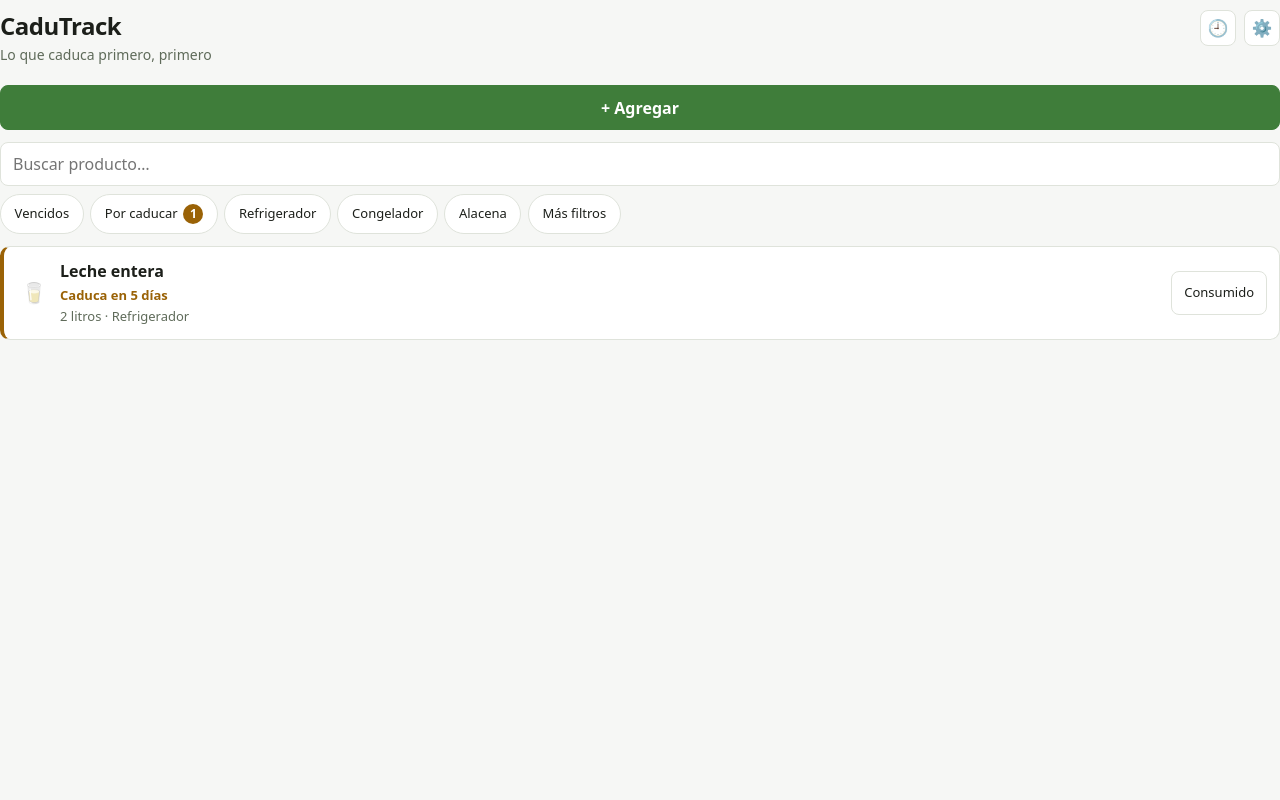
Scenario: deleting a product › asks before deleting and does nothing on cancel
Click the button "Leche entera Caduca en 5 días 2 litros · Refrigerador": (112, 271) [60,255,1167,331]
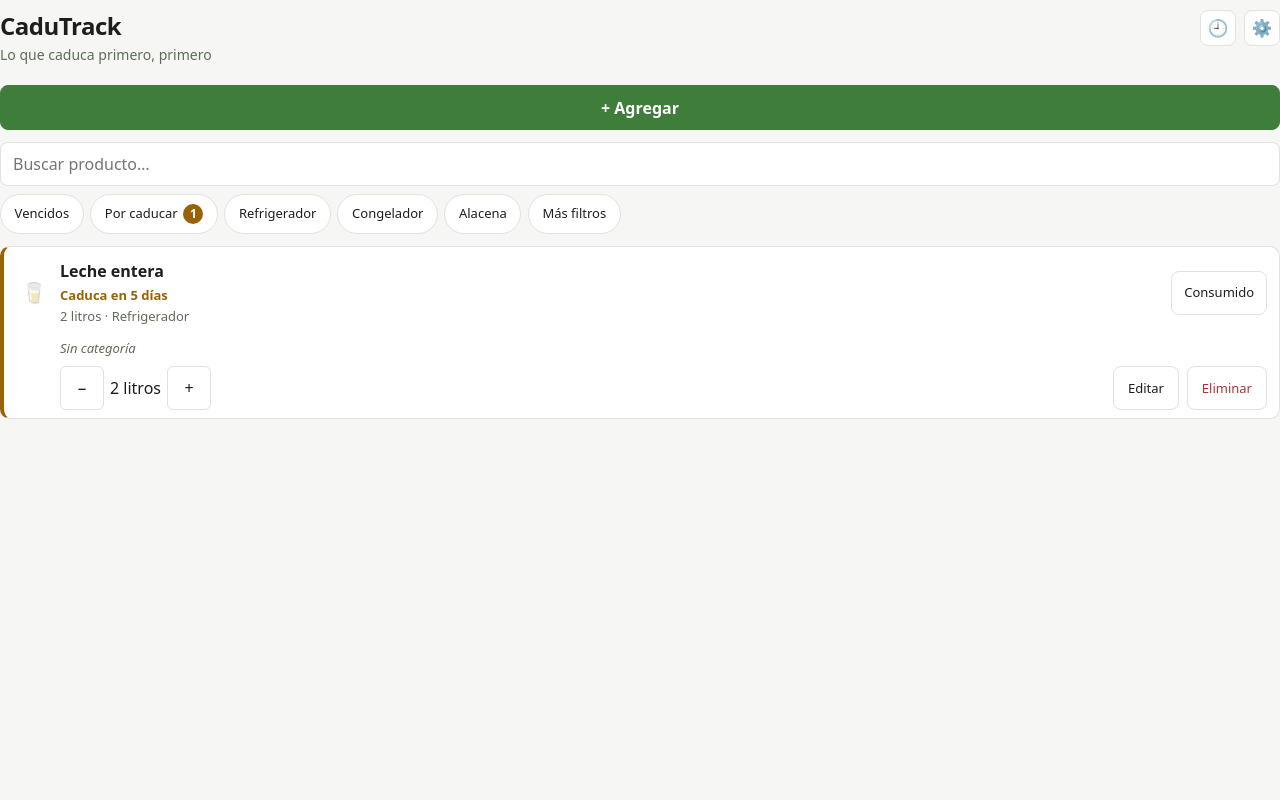
Click the button with aria-label "Eliminar Leche entera": (1227, 388) [1187,366,1267,410]
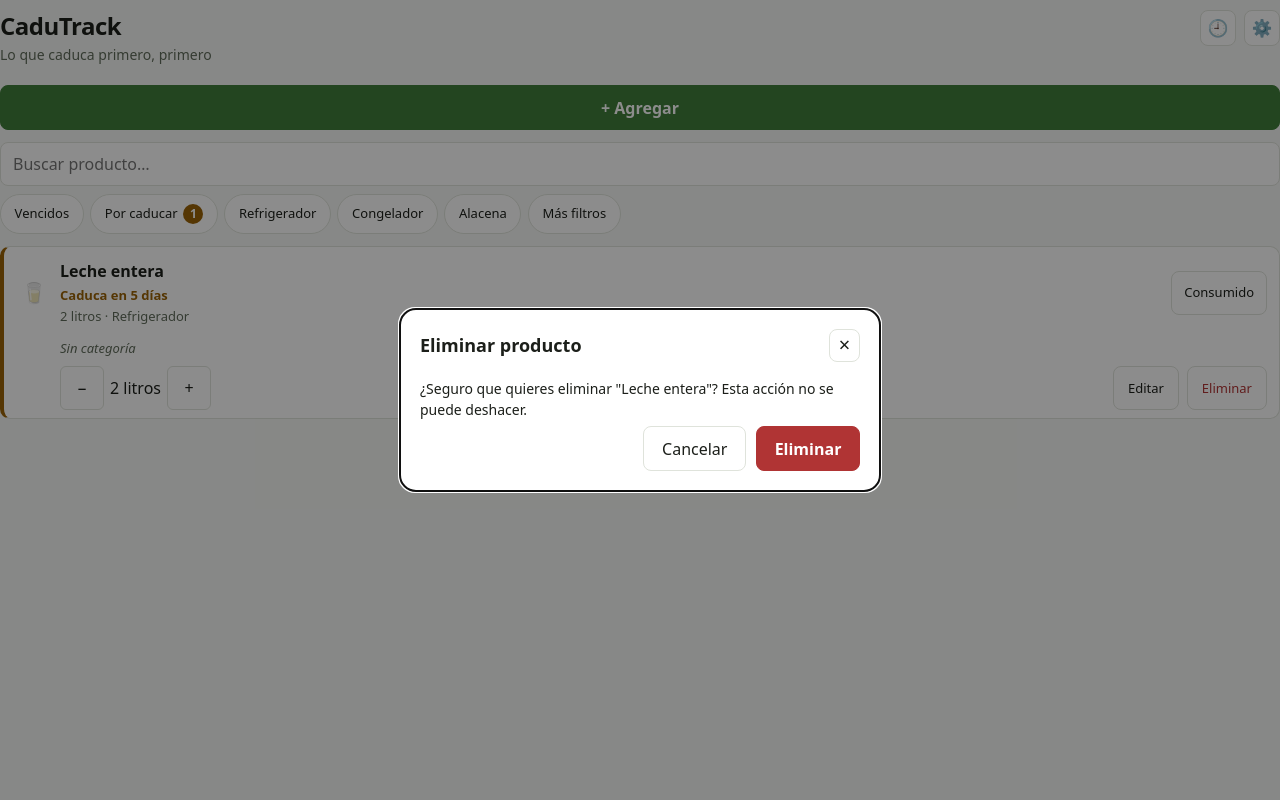
Check: the text "¿Seguro que quieres eliminar \"Leche entera\"?" is shown, box [420,379,834,419]
Click the button "Cancelar": (695, 449) [644,426,746,471]
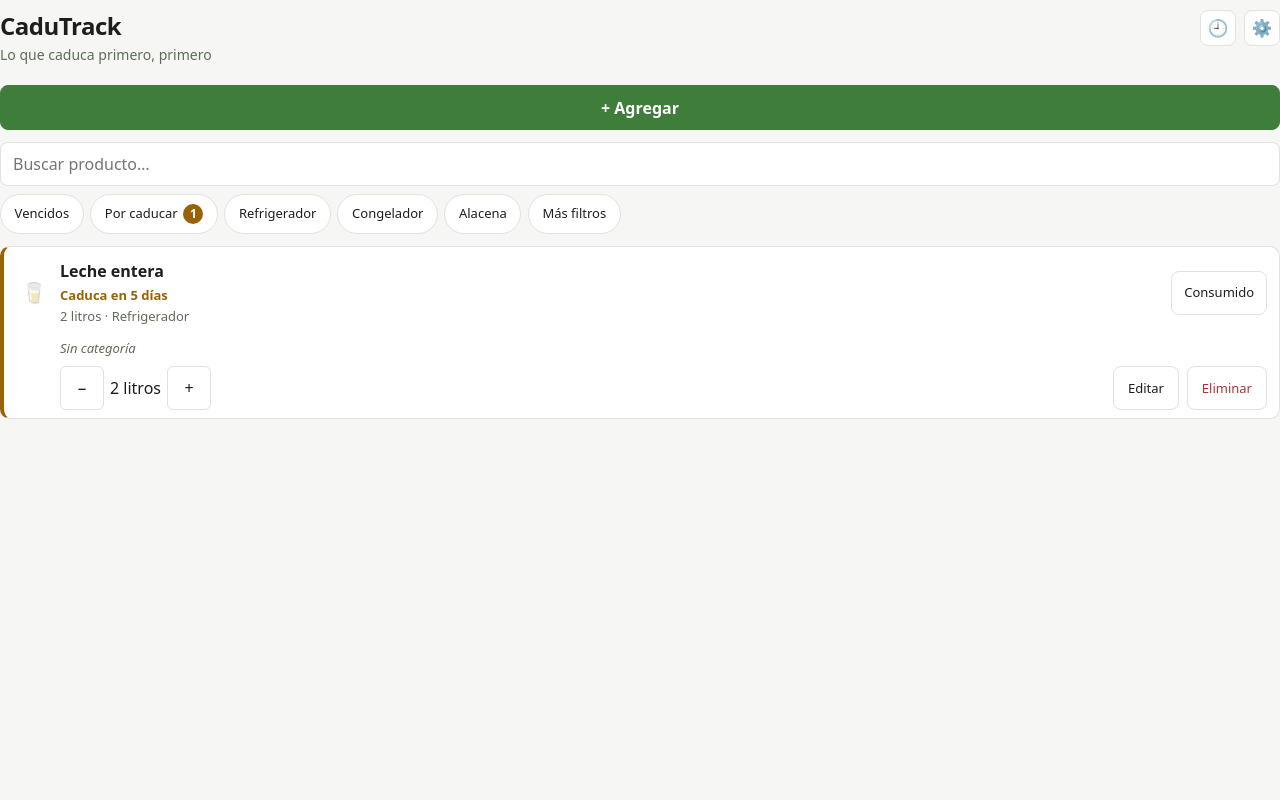
Check: the dialog is gone
